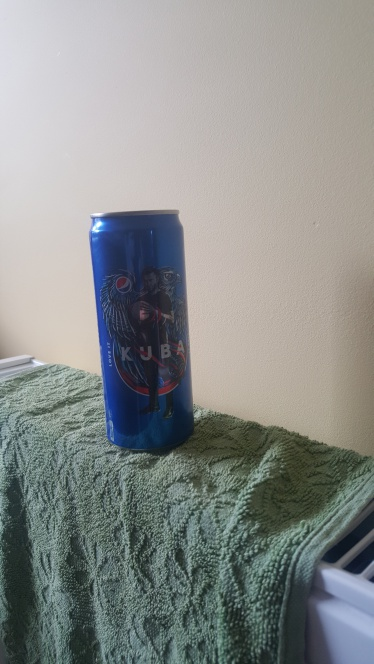pepsi: (79, 208, 214, 468)
